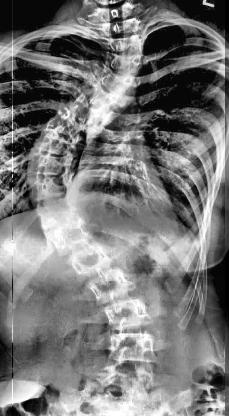Vertebrae: (84, 267, 138, 307), (106, 326, 160, 366), (55, 98, 107, 138), (68, 90, 122, 128), (104, 294, 154, 334), (65, 244, 117, 282), (82, 78, 132, 116), (38, 110, 86, 146), (47, 222, 94, 258), (27, 171, 77, 203), (98, 64, 146, 96), (31, 129, 85, 157), (33, 200, 91, 226), (24, 150, 76, 178), (100, 48, 144, 76)
